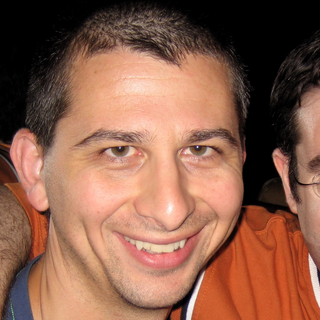eye: (99, 142, 146, 163), (176, 140, 224, 160)
